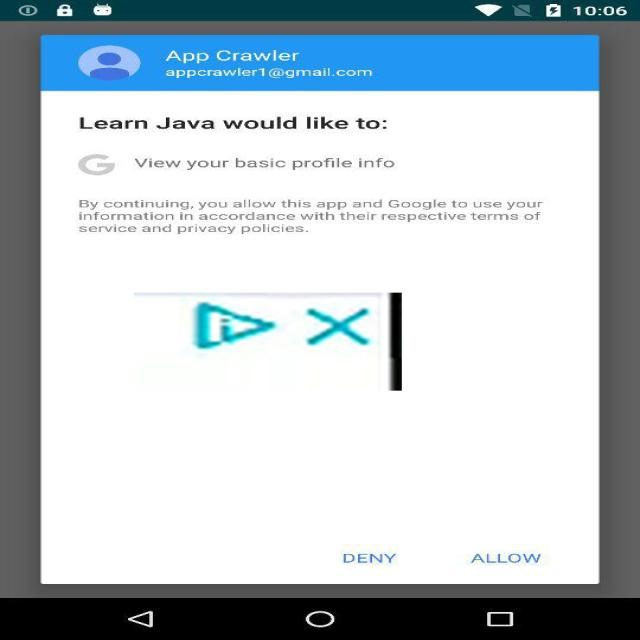sneaking: (134, 292, 402, 390)
